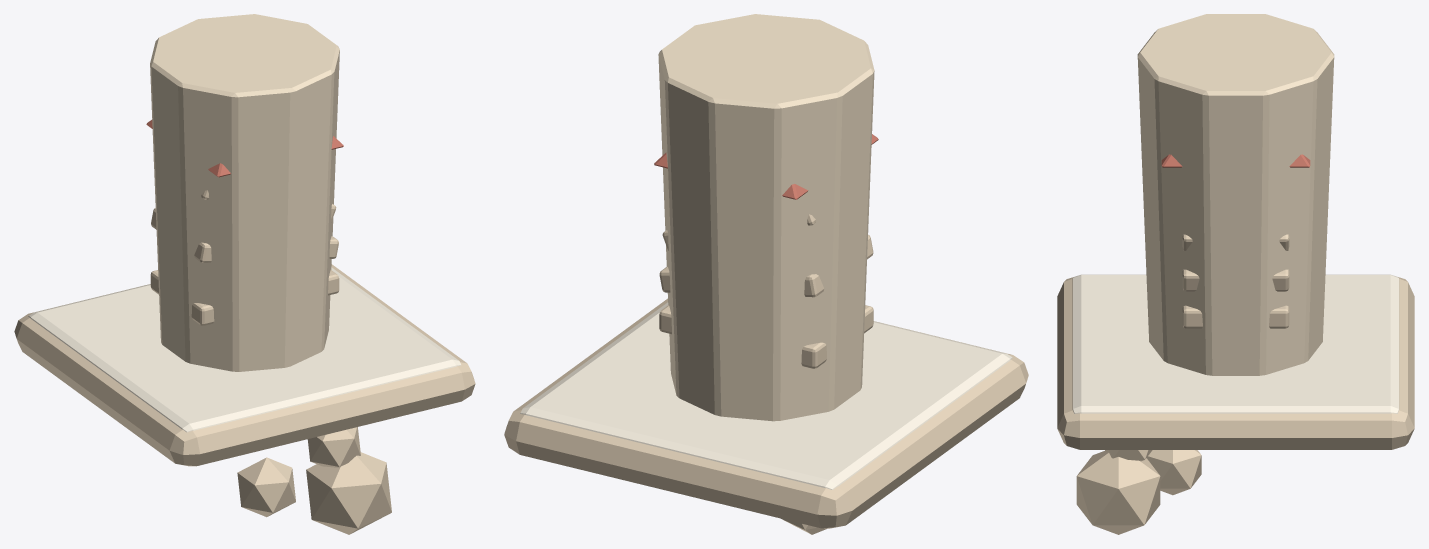
Rendered from island_docparse.glb.
3 views of the same model, side by side, from view 1: azimuth 30°, elevation 25°; view 2: azimuth 150°, elevation 25°; view 3: azimuth 270°, elevation 25° (orthographic). The views are drawn at different scales.
Visible parts, largest first — view 1: island_docparse; view 2: island_docparse; view 3: island_docparse.
Part boxes in pixels (box(x1,y1,x2,y2)): island_docparse: box(14, 14, 475, 534); island_docparse: box(504, 14, 1028, 534); island_docparse: box(1057, 14, 1414, 534).
Size of the model in its own units: 1.56 by 2.21 by 1.56.
